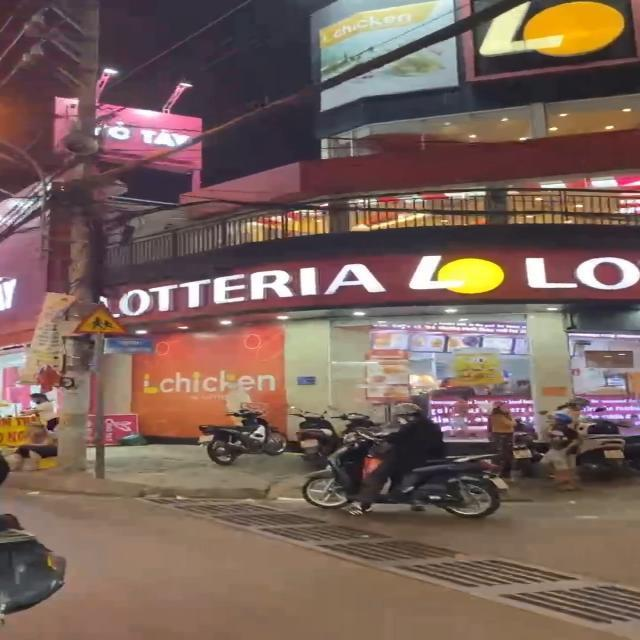225-chu-y-tre-em: (74, 304, 130, 336)
